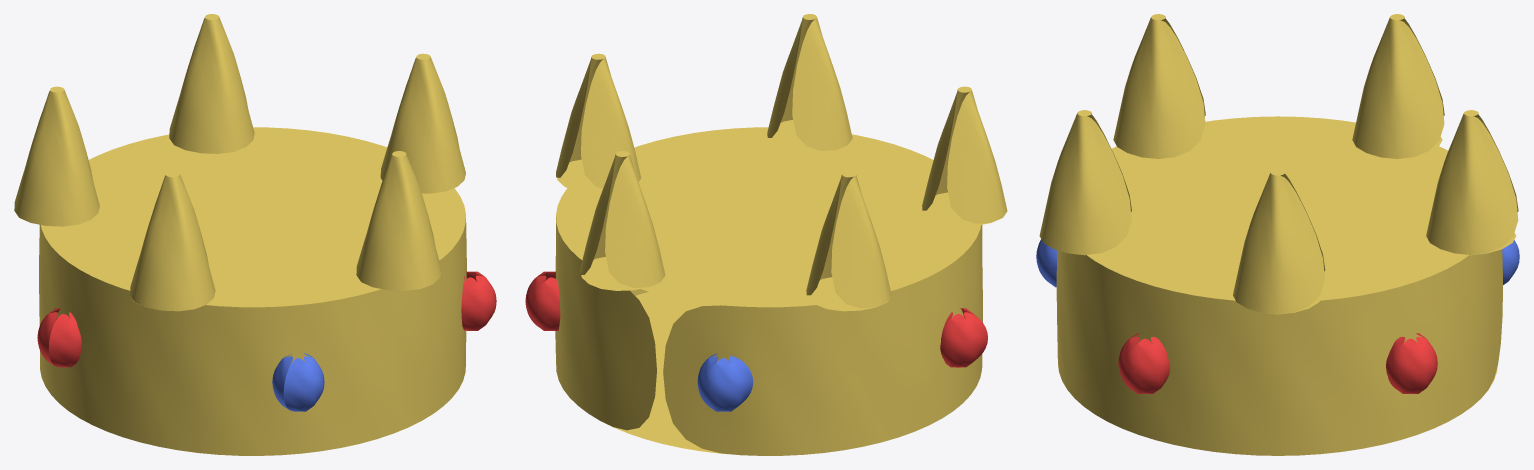
File: hat_crown.glb
The picture shows the model from 3 angles, left to right: view 1: azimuth 30°, elevation 25°; view 2: azimuth 150°, elevation 25°; view 3: azimuth 270°, elevation 25°; orthographic projection. The views are drawn at different scales.
Parts seen in each view (by area): view 1: hat_crown; view 2: hat_crown; view 3: hat_crown.
Boxes of the visible parts, x1,y1,x2,y2 form: hat_crown: (14,14,496,455); hat_crown: (525,14,1007,455); hat_crown: (1036,14,1519,455).
Bounding box in the file's own units: 0.4441 × 0.27 × 0.4282.
